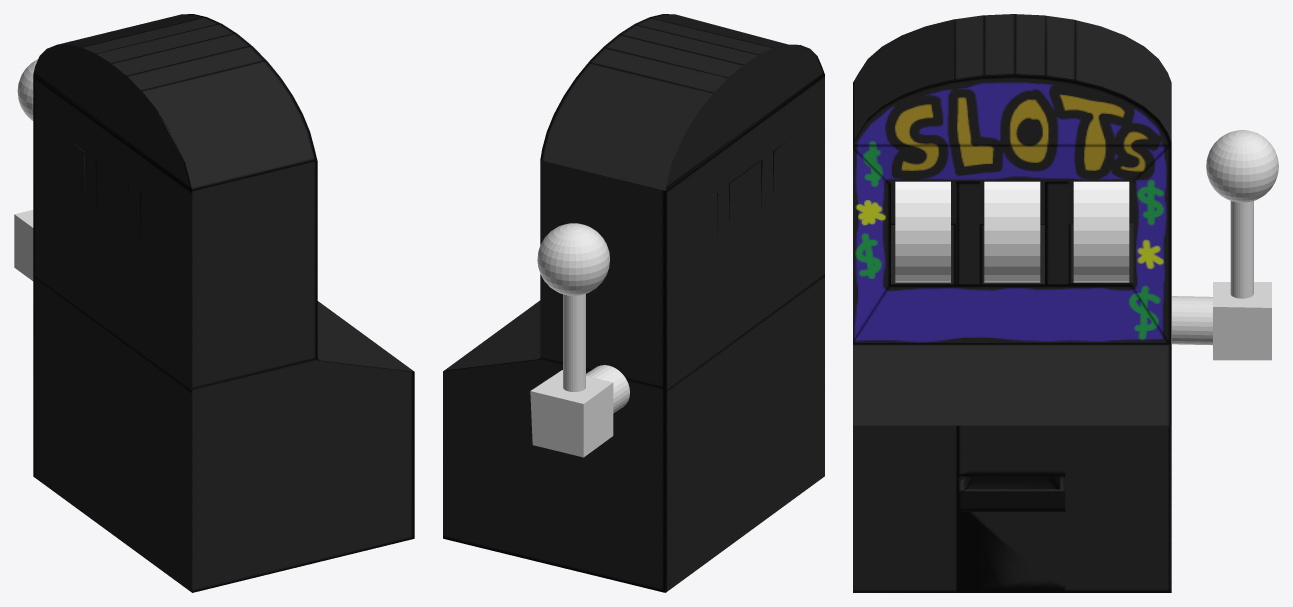
Rendered from slotmachine.glb.
The picture shows the model from 3 angles, left to right: view 1: azimuth 30°, elevation 25°; view 2: azimuth 150°, elevation 25°; view 3: azimuth 270°, elevation 25°; orthographic projection.
Parts seen in each view (by area): view 1: SlotMachine, Handle; view 2: SlotMachine, Handle; view 3: SlotMachine, Handle, Wheel2, Wheel3, Wheel1.
Boxes of the visible parts, x1,y1,x2,y2 form: SlotMachine: (33,14,414,592); Handle: (14,59,37,280); SlotMachine: (443,14,824,592); Handle: (530,223,629,457); SlotMachine: (853,14,1171,592); Handle: (1172,130,1278,360); Wheel2: (984,181,1040,282); Wheel3: (1073,181,1129,282); Wheel1: (895,181,950,282).
Bounding box in the file's own units: 8.04 × 14.26 × 11.7.
4 materials, 1 textured.
